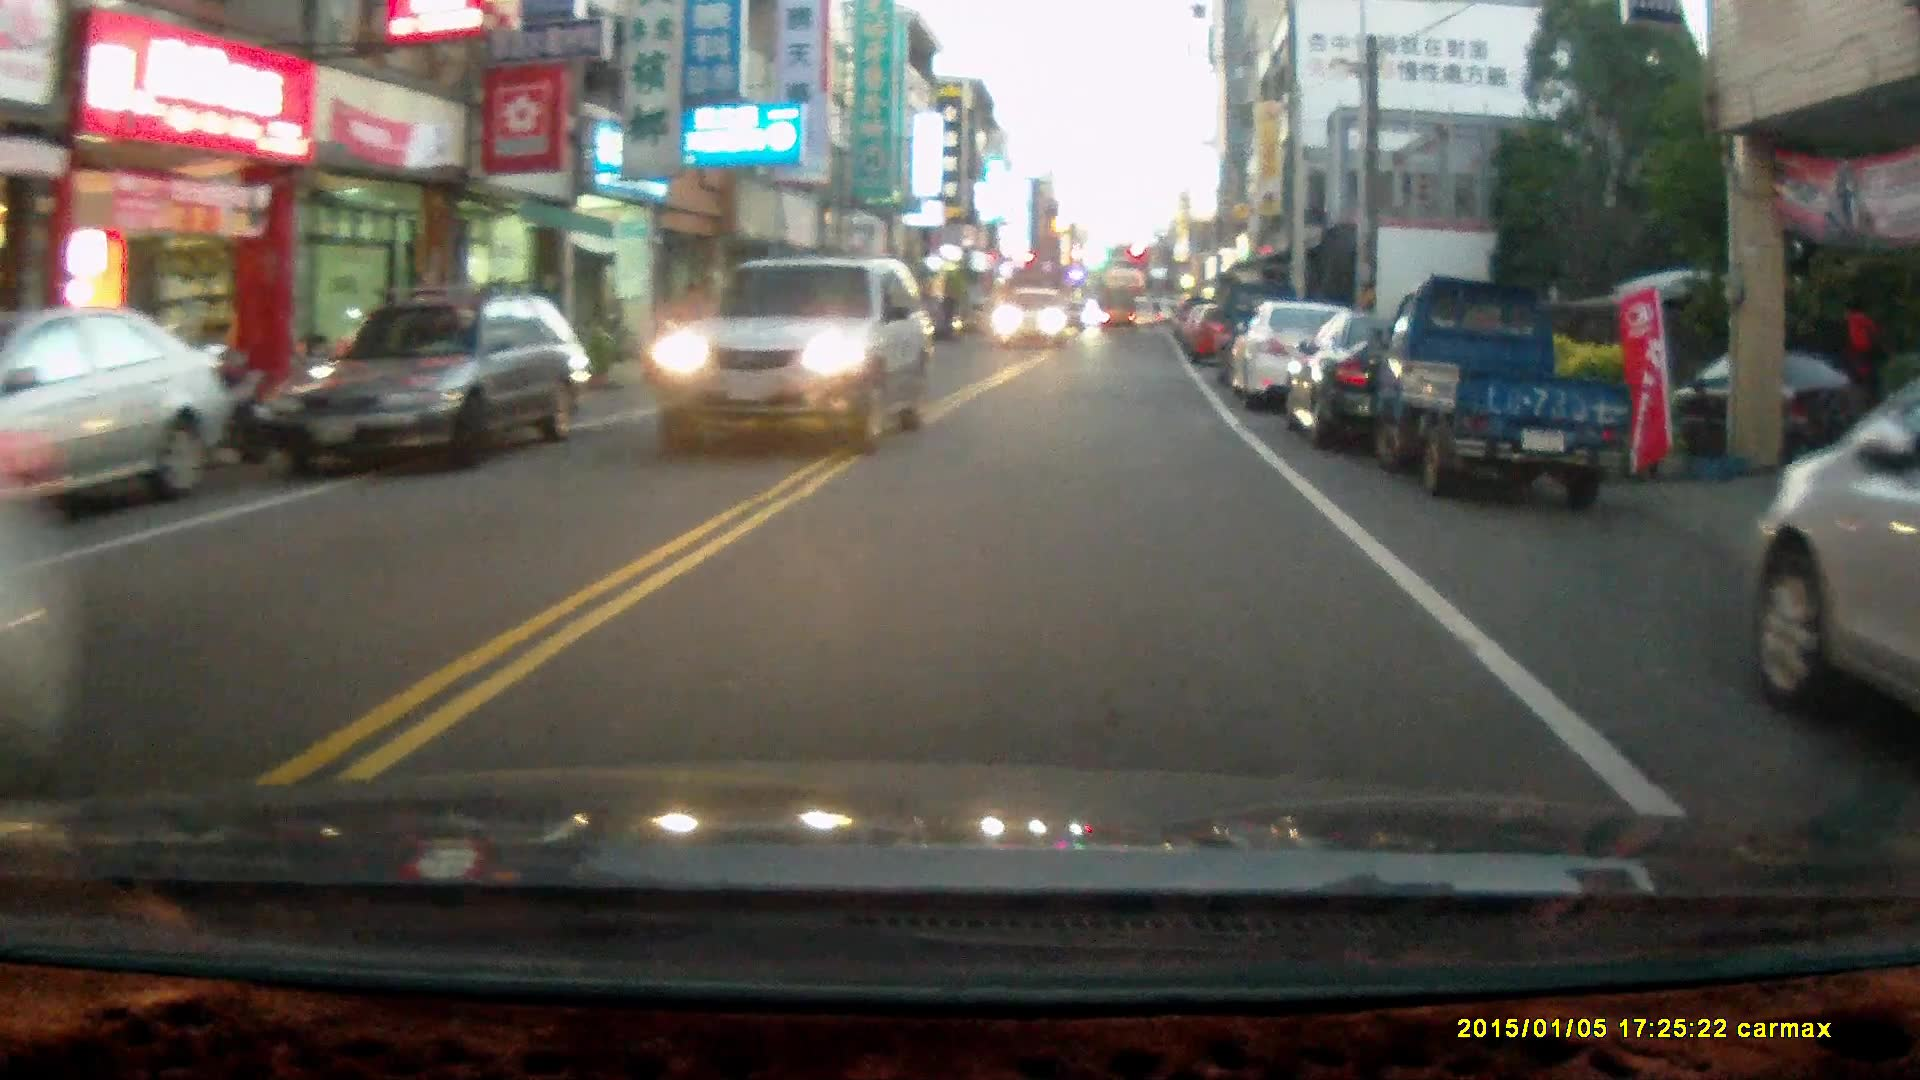pedestrian: (1834, 294, 1891, 480)
vehicle: (1369, 269, 1652, 509), (249, 288, 595, 478), (1751, 374, 1920, 735), (657, 252, 940, 451), (1295, 308, 1518, 445), (1229, 300, 1386, 408), (991, 287, 1074, 348)
